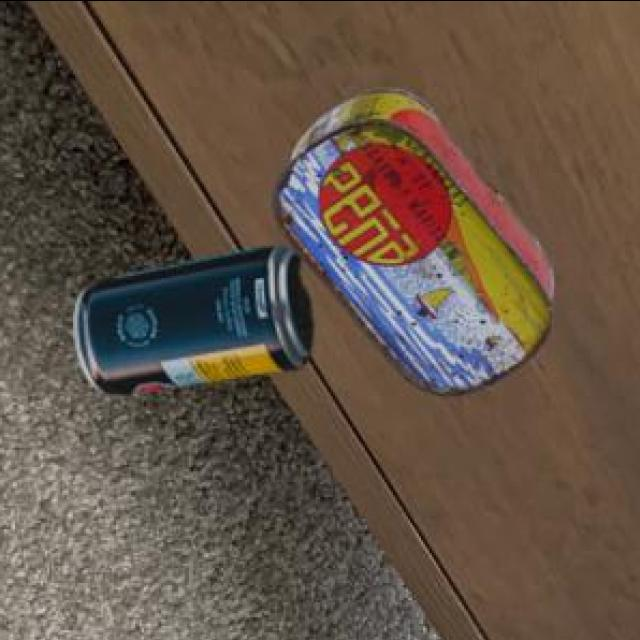logam: (276, 85, 557, 392), (78, 242, 317, 390)
